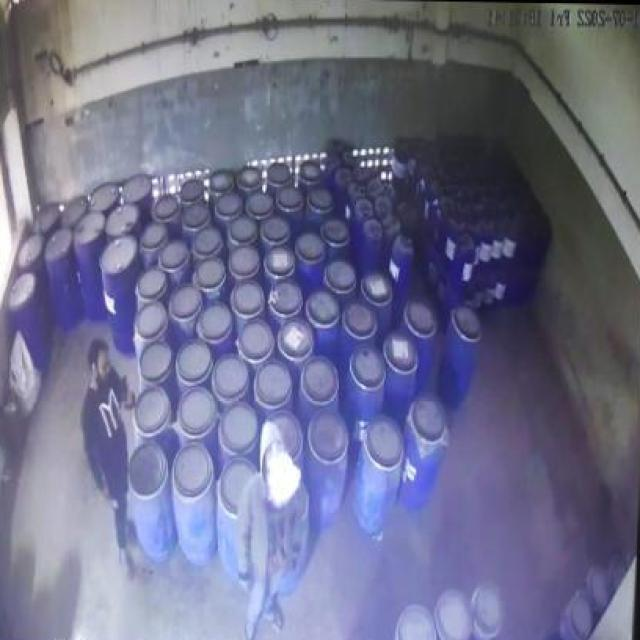fire: (261, 436, 310, 514)
